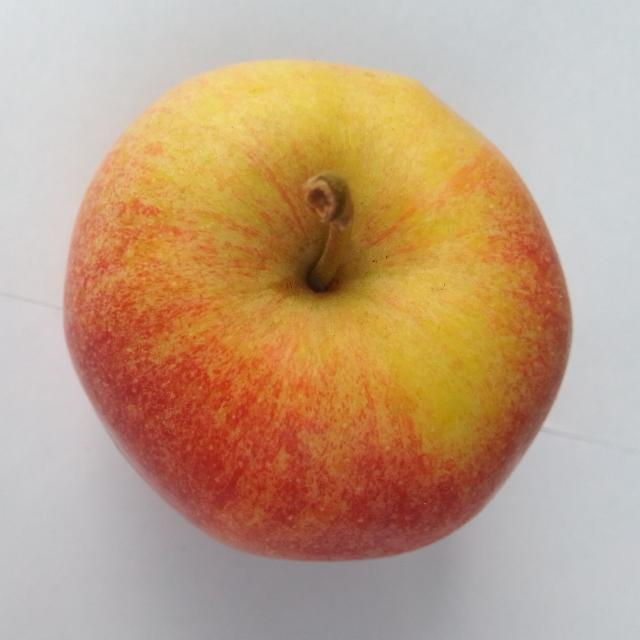Fresh Apple: (85, 92, 558, 545)
